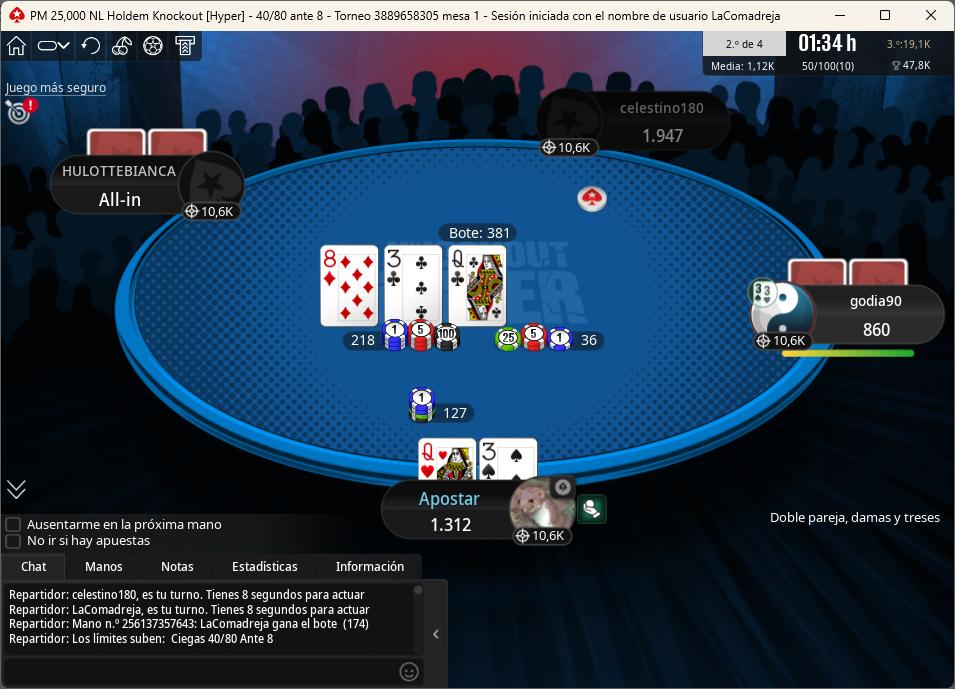Dealer: (572, 184, 614, 214)
HiddenCards: (85, 132, 215, 160), (785, 259, 917, 285)
Player: (744, 284, 949, 351), (46, 151, 246, 215), (545, 90, 732, 156)
PlayerChips: (91, 190, 151, 210), (634, 126, 696, 143), (854, 324, 899, 343)
Pot: (435, 224, 521, 243)
PrincipalCards: (414, 438, 544, 484)
PrincipalCards1: (415, 436, 478, 482)
PrincipalCards2: (481, 437, 542, 482)
PrincipalPlayer: (377, 474, 589, 549)
ShowedCards: (319, 240, 511, 332)
ShowedCards1: (319, 246, 384, 330)
ShowedCards2: (384, 245, 446, 329)
ShowedCards3: (447, 243, 510, 327)
SmallBigBlind: (246, 4, 344, 26)
TablePot: (322, 315, 623, 360)
